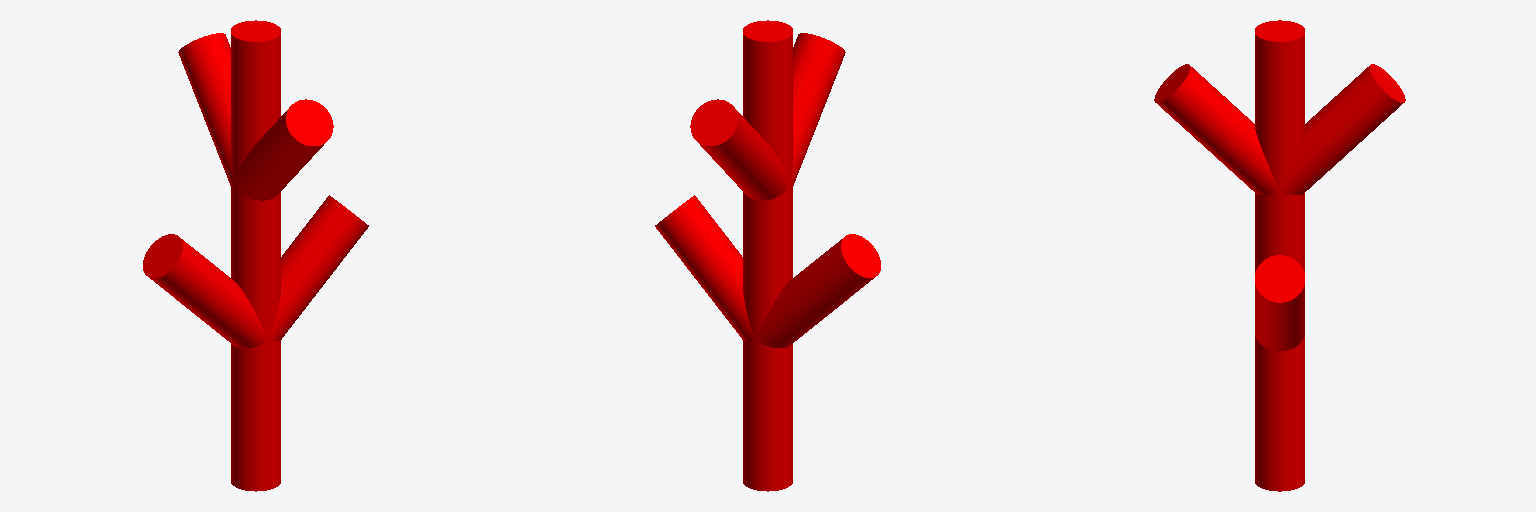
URDF robot description (tree.urdf):
<?xml version="1.0" ?>
<robot name="tree.urdf">
  <link name="baseLink">
    <inertial>
      <origin rpy="0 0 0" xyz="0 0 0"/>
       <mass value=".1"/>
       <inertia ixx="1" ixy="0" ixz="0" iyy="1" iyz="0" izz="1"/>
    </inertial>
    <visual>
      <origin rpy="0 0 0" xyz="0 0 0"/>
      <geometry>
        <mesh filename="18.stl" scale="1 1 1" />
      </geometry>
      <material name="red">
        <color rgba="1 0 0 1"/>
      </material>
    </visual>
    <collision>
      <origin rpy="0 0 0" xyz="0 0 0"/>
      <geometry>
        <mesh filename="18_convex.obj" scale="1 1 1" />
      </geometry>
    </collision>
  </link>
</robot>

--- Render facts (derived) ---
Views: 3 orthographic renders of the robot side by side, from view 1: azimuth 30°, elevation 25°; view 2: azimuth 150°, elevation 25°; view 3: azimuth 270°, elevation 25°.
Model tree.urdf with 1 links and 0 joints (none), rooted at baseLink, posed every joint at zero.
Links seen in each view (by area): view 1: baseLink; view 2: baseLink; view 3: baseLink.
Boxes of the visible links, left/top/right/bottom form: baseLink: left=143, top=20, right=368, bottom=491; baseLink: left=655, top=20, right=880, bottom=491; baseLink: left=1154, top=20, right=1405, bottom=491.
Size in the robot's own frame: 0.2193 by 0.2193 by 0.4333 metres.
1 mesh visuals loaded from 1 distinct referenced files (1 binary STL).